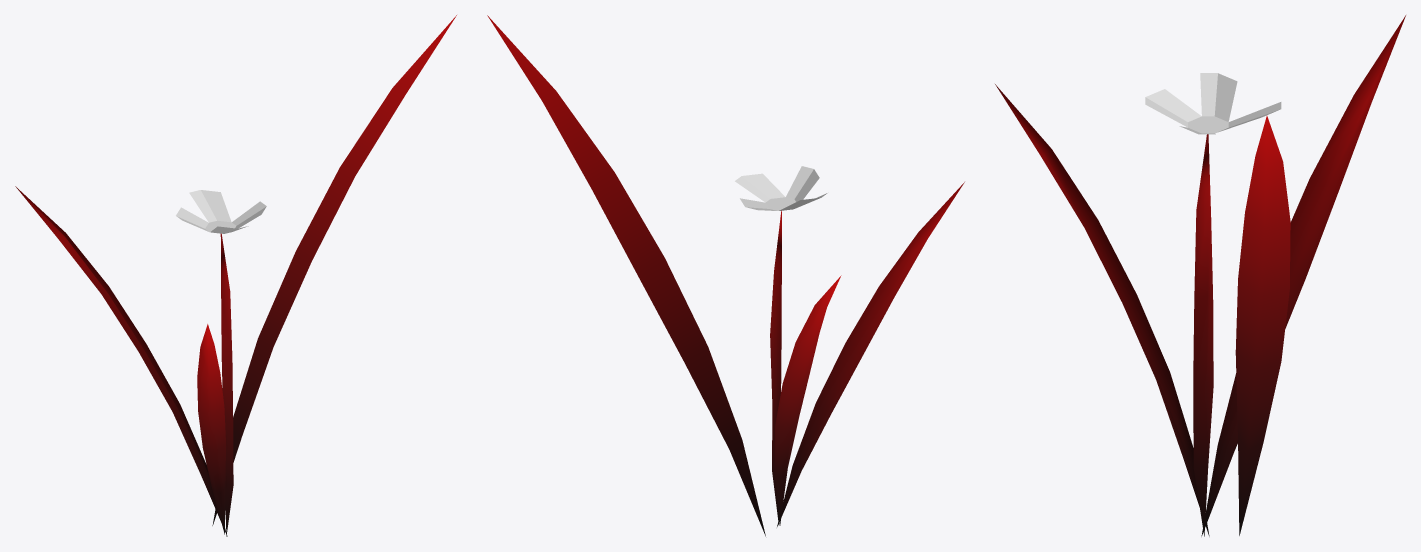
Rendered from Flower 1.fbx.
The picture shows the model from 3 angles, left to right: view 1: azimuth 30°, elevation 25°; view 2: azimuth 150°, elevation 25°; view 3: azimuth 270°, elevation 25°; orthographic projection. The views are drawn at different scales.
Parts seen in each view (by area): view 1: Flower; view 2: Flower; view 3: Flower.
Boxes of the visible parts, x1,y1,x2,y2 form: Flower: (15, 15, 456, 536); Flower: (487, 15, 964, 536); Flower: (995, 15, 1405, 536).
Bounding box in the file's own units: 60.86 × 66.04 × 42.02.
